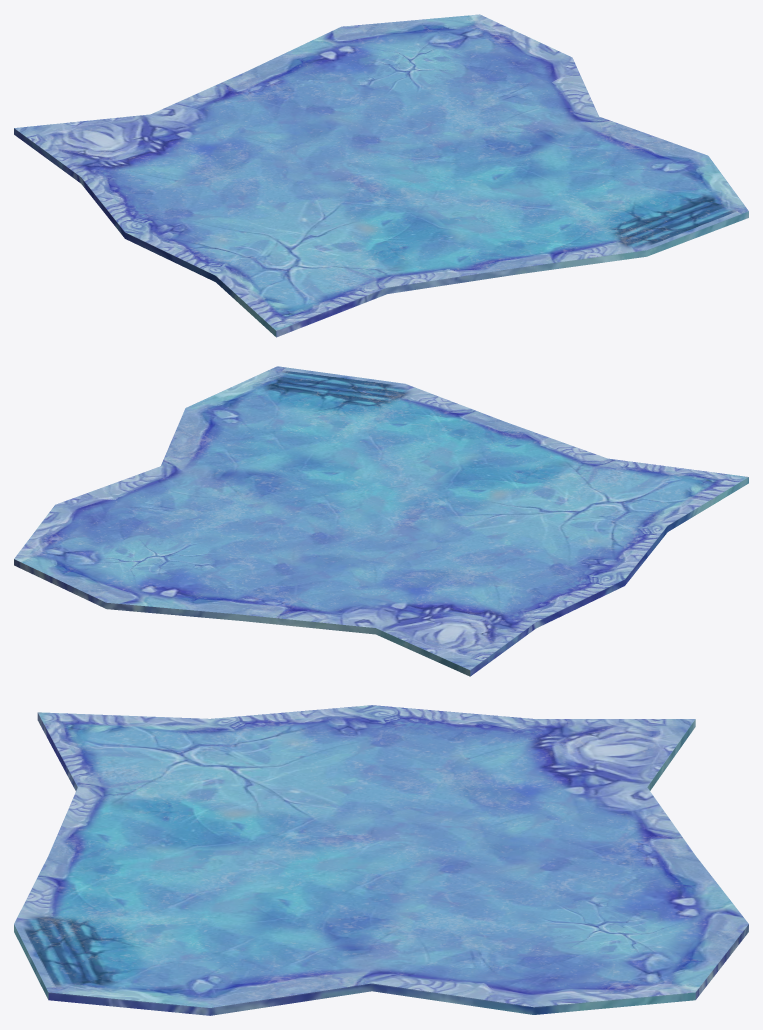
File: Board_2.fbx
3 views of the same model, one above another, from view 1: azimuth 30°, elevation 25°; view 2: azimuth 150°, elevation 25°; view 3: azimuth 270°, elevation 25° (orthographic). The views are drawn at different scales.
Visible parts, largest first — view 1: Board_2; view 2: Board_2; view 3: Board_2.
Part boxes in pixels (x1,y1,x2,y2): Board_2: (14, 14, 748, 337); Board_2: (14, 366, 748, 676); Board_2: (14, 705, 748, 1015).
Bounding box in the file's own units: 1661 × 20 × 1703.
Materials: 1 (1 with a texture image).
